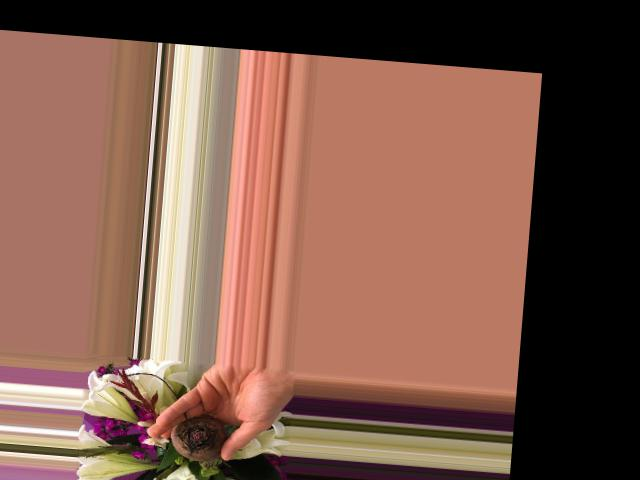beet: (167, 412, 228, 463)
